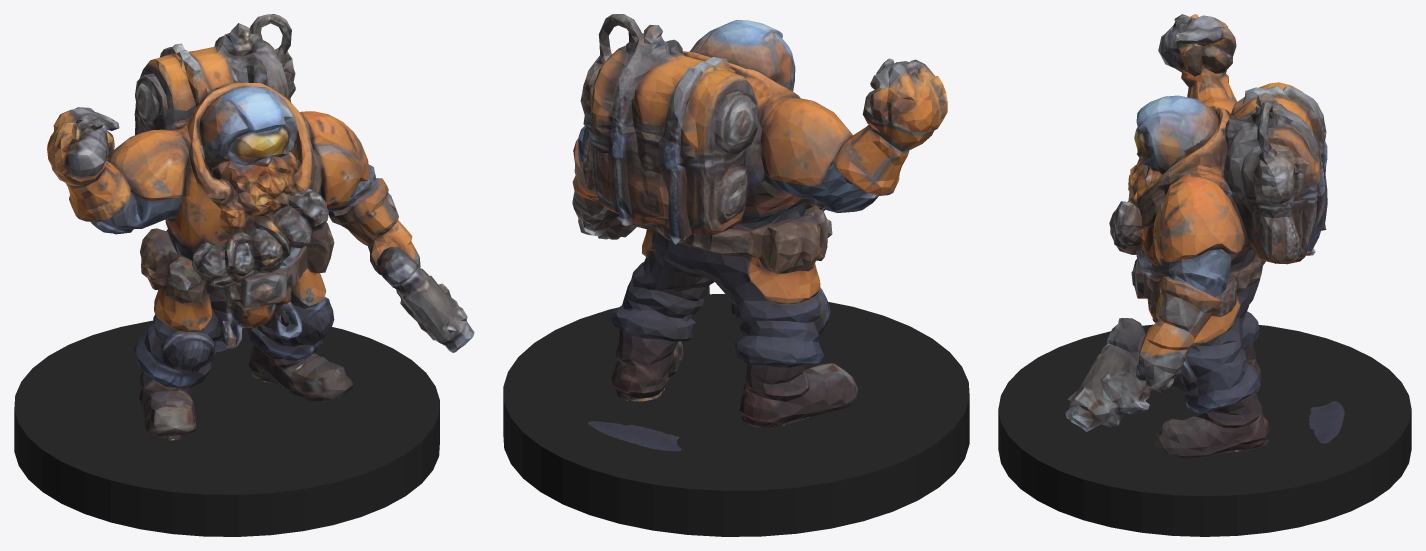
Rendered from hk-grenadier.glb.
3 views of the same model, side by side, from view 1: azimuth 30°, elevation 25°; view 2: azimuth 150°, elevation 25°; view 3: azimuth 270°, elevation 25° (orthographic). The views are drawn at different scales.
Visible parts, largest first — view 1: figure, base; view 2: figure, base; view 3: figure, base.
Boxes of the visible parts, bbox=[...] form: figure: bbox=[47, 14, 474, 440]; base: bbox=[14, 320, 439, 536]; figure: bbox=[572, 14, 947, 451]; base: bbox=[503, 294, 969, 536]; figure: bbox=[1065, 14, 1344, 458]; base: bbox=[998, 324, 1411, 536].
Bounding box in the file's own units: 1.1 × 1.12 × 1.1.
Materials: 2 (1 with a texture image).
